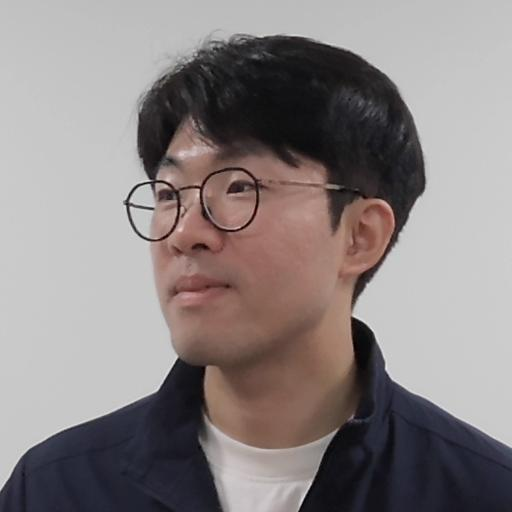no_glasses: (118, 29, 437, 380)
